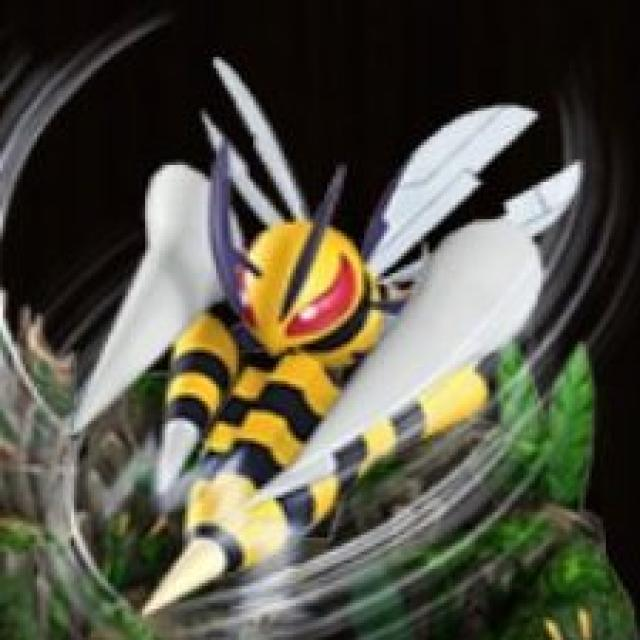Beedrill: (111, 162, 492, 610)
